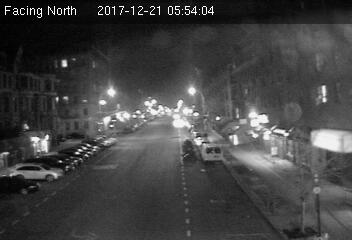truck: (201, 142, 223, 165)
